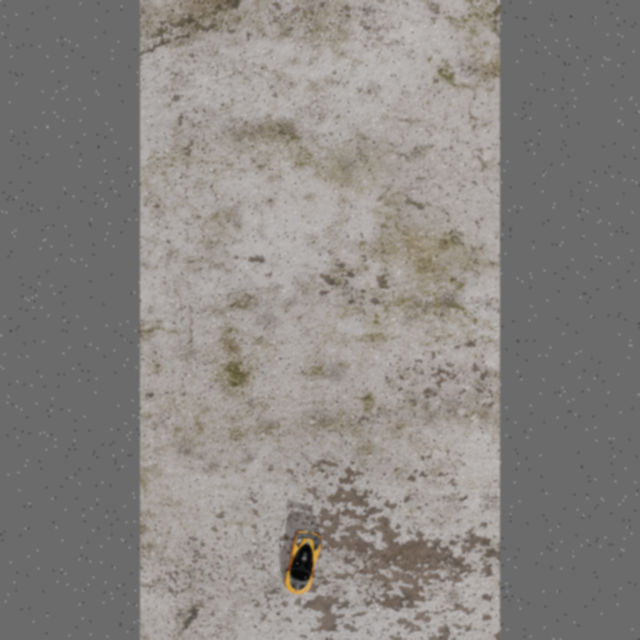car: (279, 524, 324, 603)
